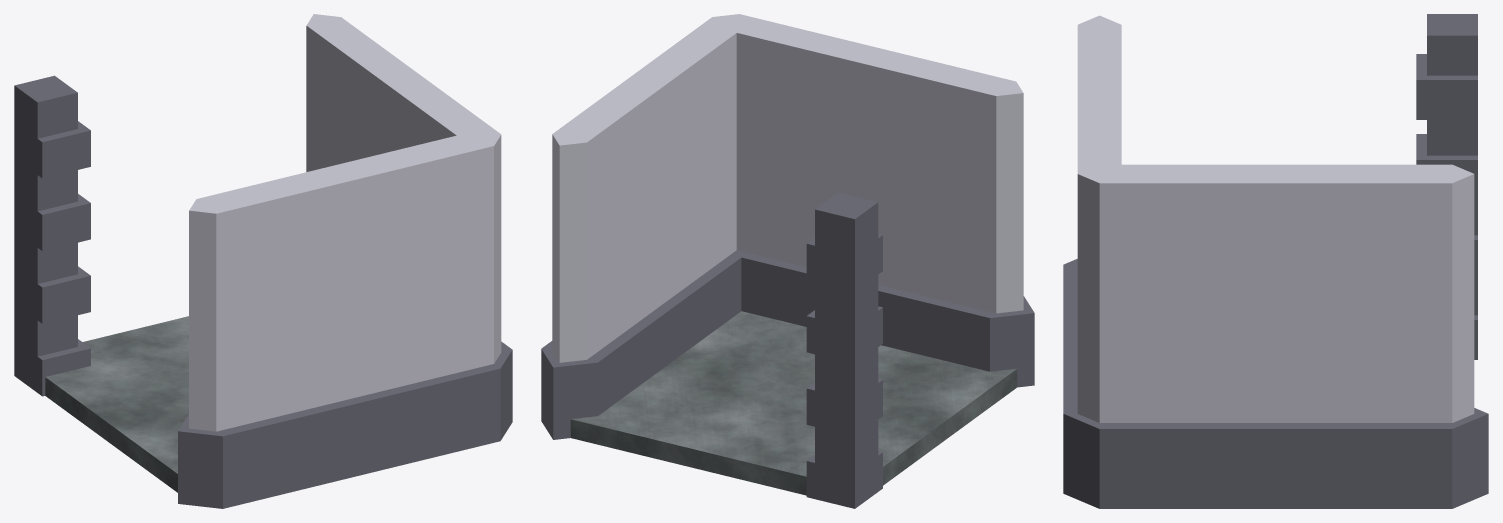
Rendered from sm_corner_03.fbx.
3 renders of one model, left to right at view 1: azimuth 30°, elevation 25°; view 2: azimuth 150°, elevation 25°; view 3: azimuth 270°, elevation 25°, orthographic. The views are drawn at different scales.
Visible parts, largest first — view 1: corner_01_162, wall_borderBricks_159, floor_square_163; view 2: corner_01_162, floor_square_163, wall_borderBricks_159; view 3: corner_01_162, wall_borderBricks_159.
Part boxes in pixels (x1=…): corner_01_162: x1=178, y1=14, x2=512, y2=508; wall_borderBricks_159: x1=14, y1=75, x2=90, y2=396; floor_square_163: x1=45, y1=316, x2=188, y2=492; corner_01_162: x1=541, y1=14, x2=1034, y2=439; floor_square_163: x1=570, y1=311, x2=1017, y2=495; wall_borderBricks_159: x1=806, y1=192, x2=882, y2=508; corner_01_162: x1=1063, y1=15, x2=1488, y2=508; wall_borderBricks_159: x1=1416, y1=14, x2=1477, y2=359.
Bounding box in the file's own units: 12.05 × 10 × 12.05.
